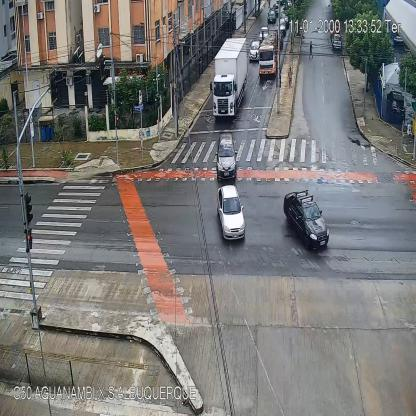car: (284, 191, 330, 250), (218, 186, 245, 242), (216, 133, 237, 182), (249, 40, 259, 60), (280, 12, 289, 29), (260, 26, 268, 38), (279, 18, 285, 34), (268, 8, 274, 22), (273, 3, 279, 17)
person: (139, 128, 145, 154), (287, 66, 293, 86), (309, 40, 313, 59)
truck: (209, 38, 245, 118), (257, 31, 278, 77)
